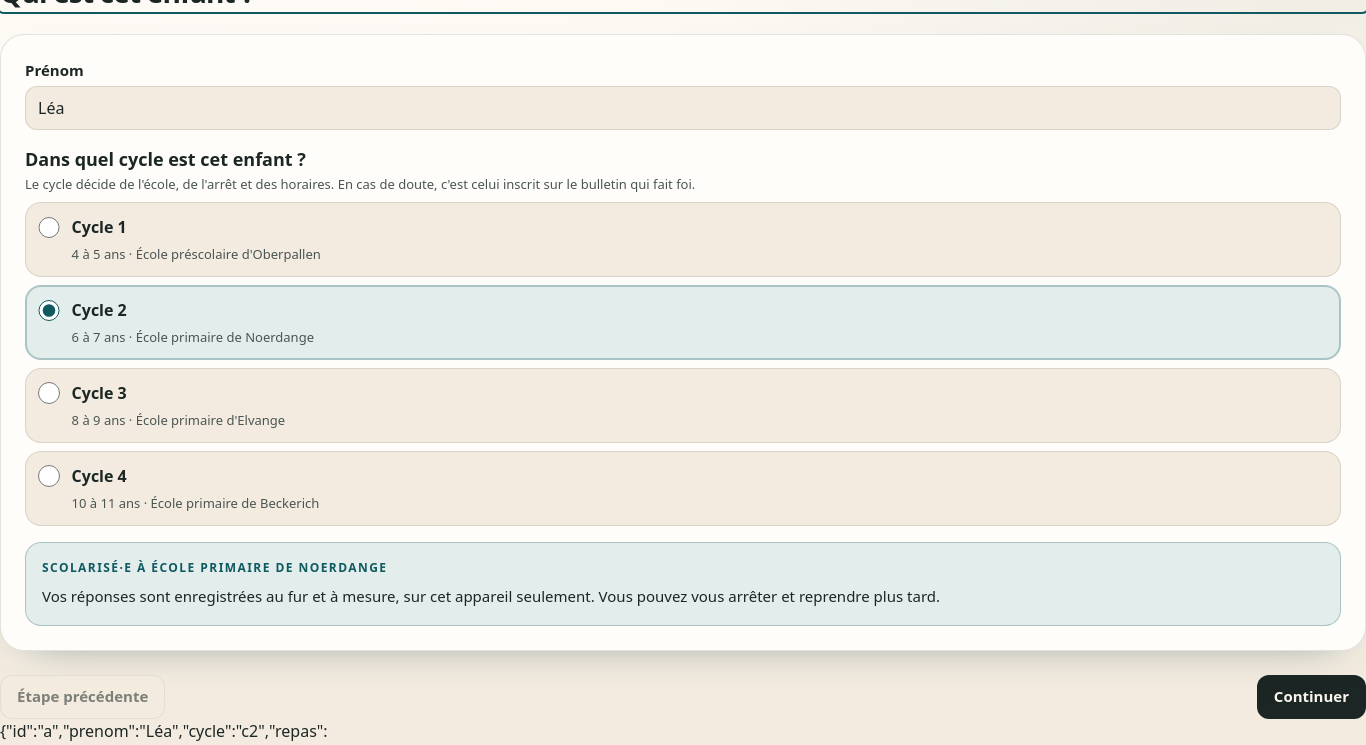
Test case: forme du parcours › permet de revenir sur une réponse sans reculer écran par écran
The image size is (1366, 745).
(page scrolled)
Click the button "Continuer".
click(1311, 697)  # box [1257,675,1365,719]
(page scrolled)
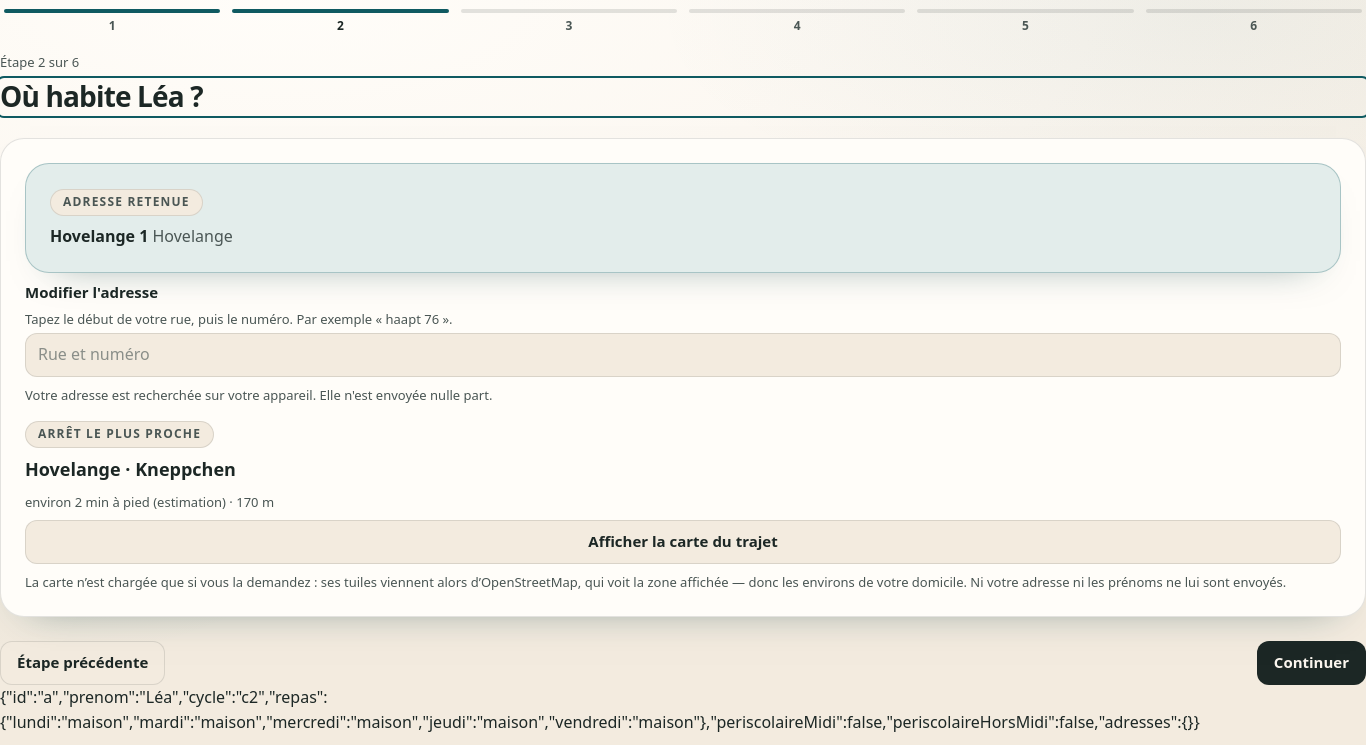
Click the button "Continuer".
click(1311, 663)  # box [1257,641,1365,685]
(page scrolled)
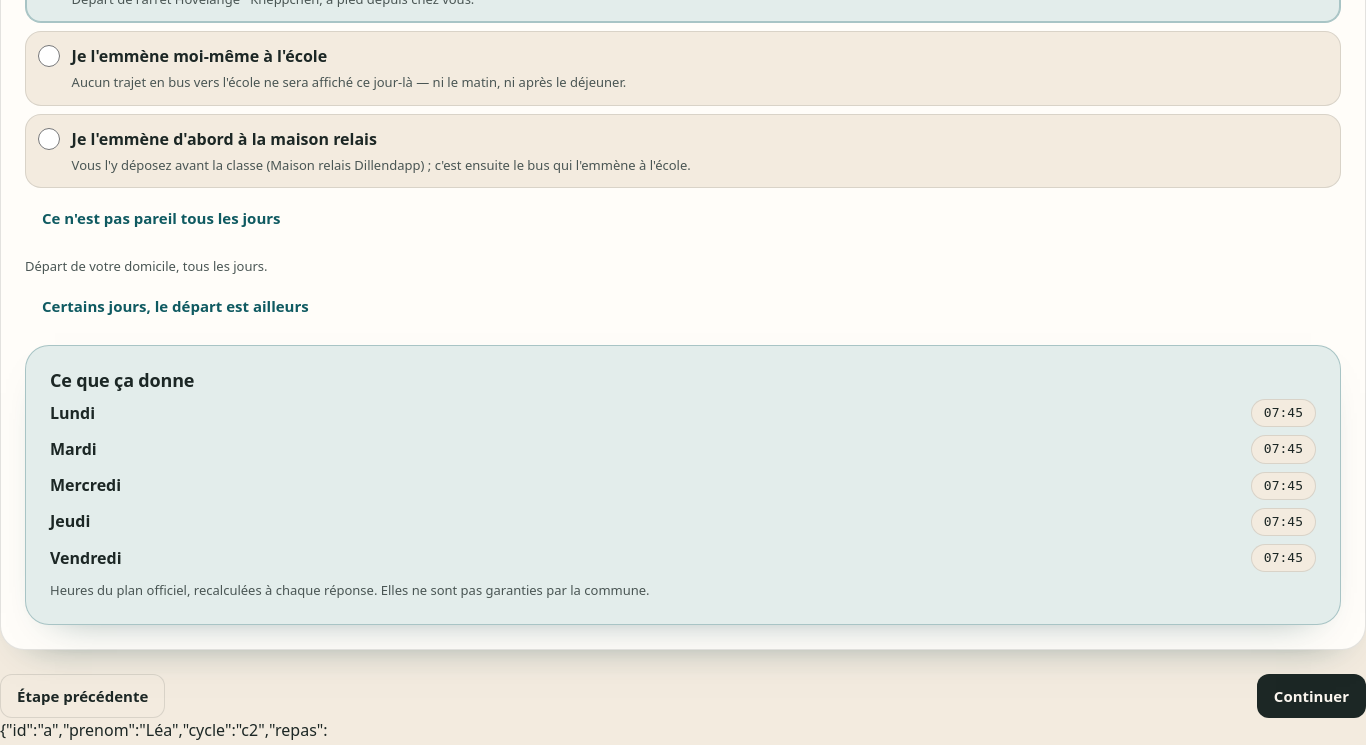
Click the button "Continuer".
click(1311, 696)  # box [1257,674,1365,718]
(page scrolled)
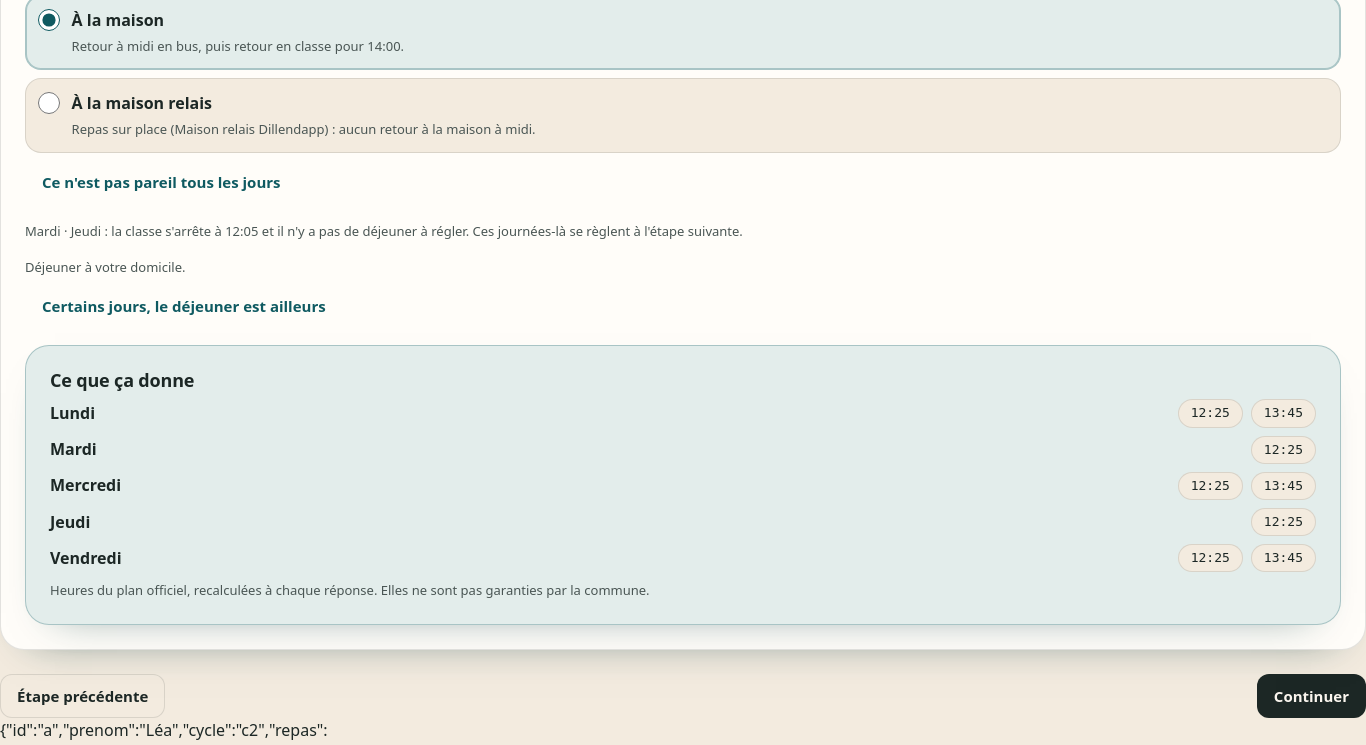
Click the button "Continuer".
click(1311, 696)  # box [1257,674,1365,718]
(page scrolled)
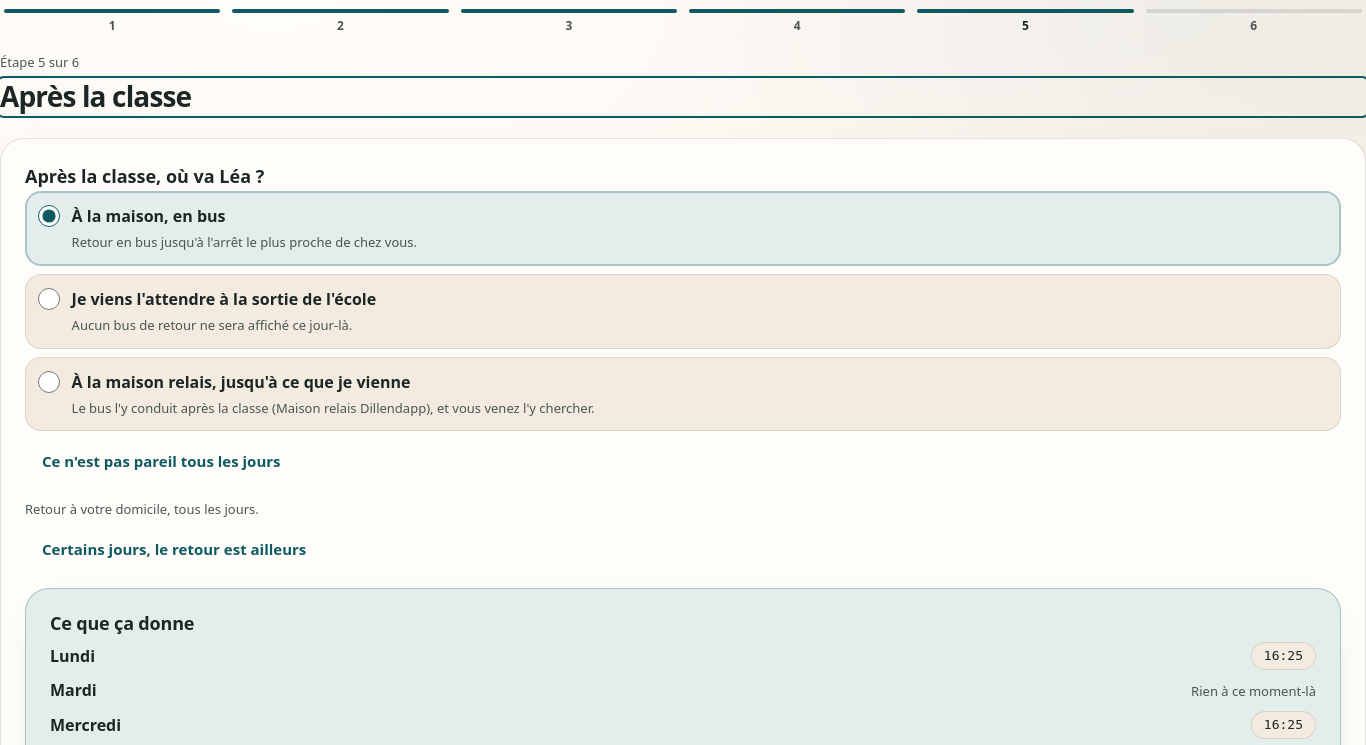
Click the button "3".
click(569, 22)  # box [457,0,681,44]
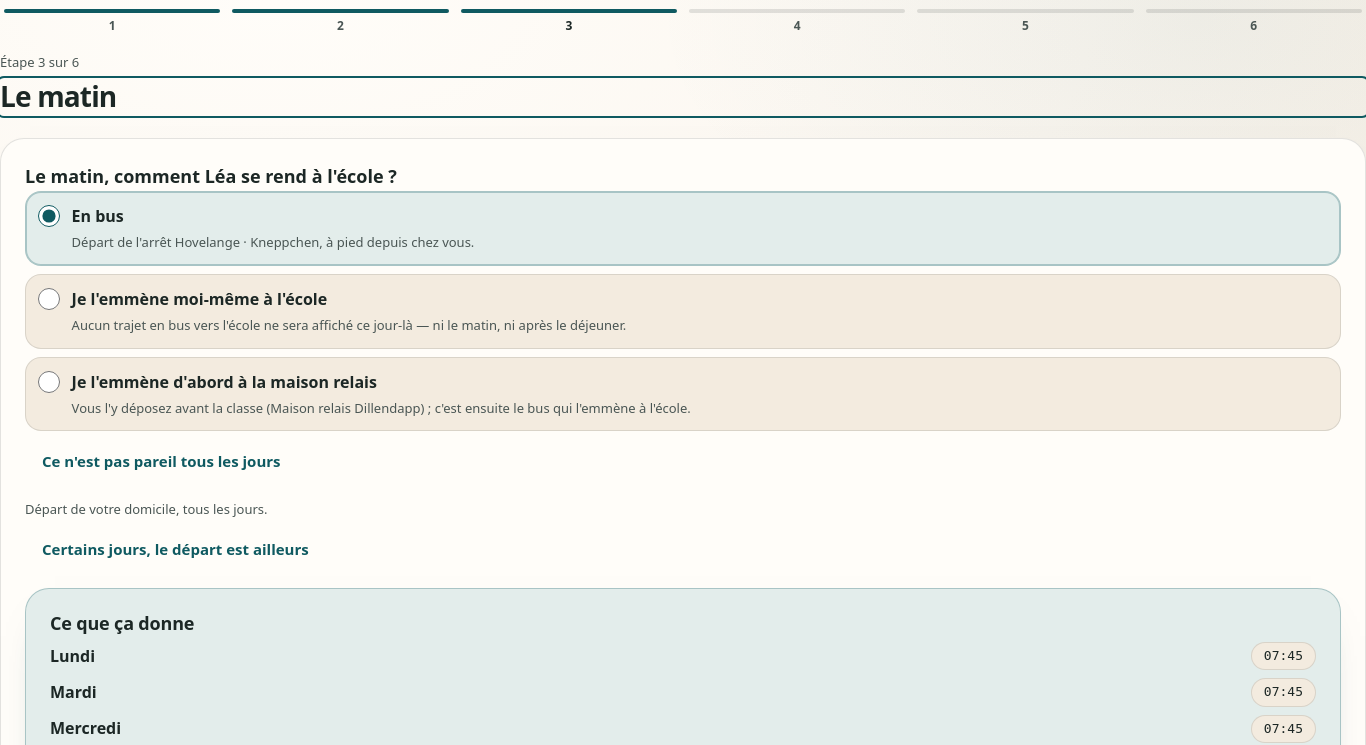
Expected: the heading "Le matin" is shown, [0,77,116,115]
